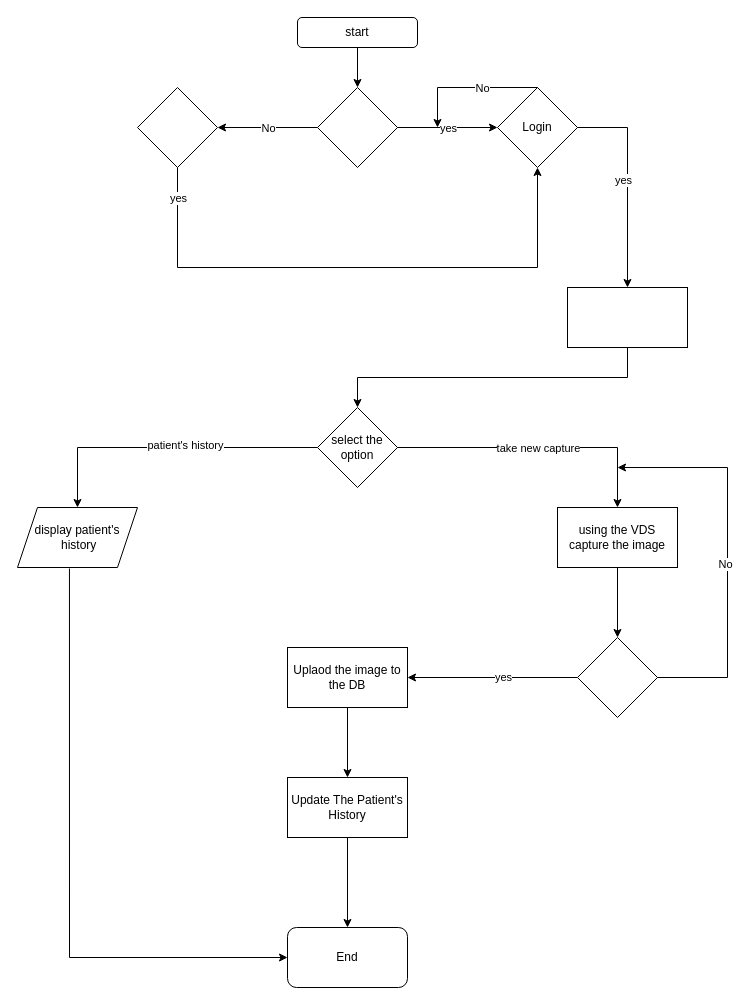
This 753x1005 diagram has some shape labels left out. The shapes that lost their labels are listed below. From the top down, each one's centre as x and y in pixels, then its label:
At pixel 177 127: "Register".
At pixel 357 127: "Already Registered".
At pixel 627 317: "successfully loged in".
At pixel 617 677: "save to DB".
